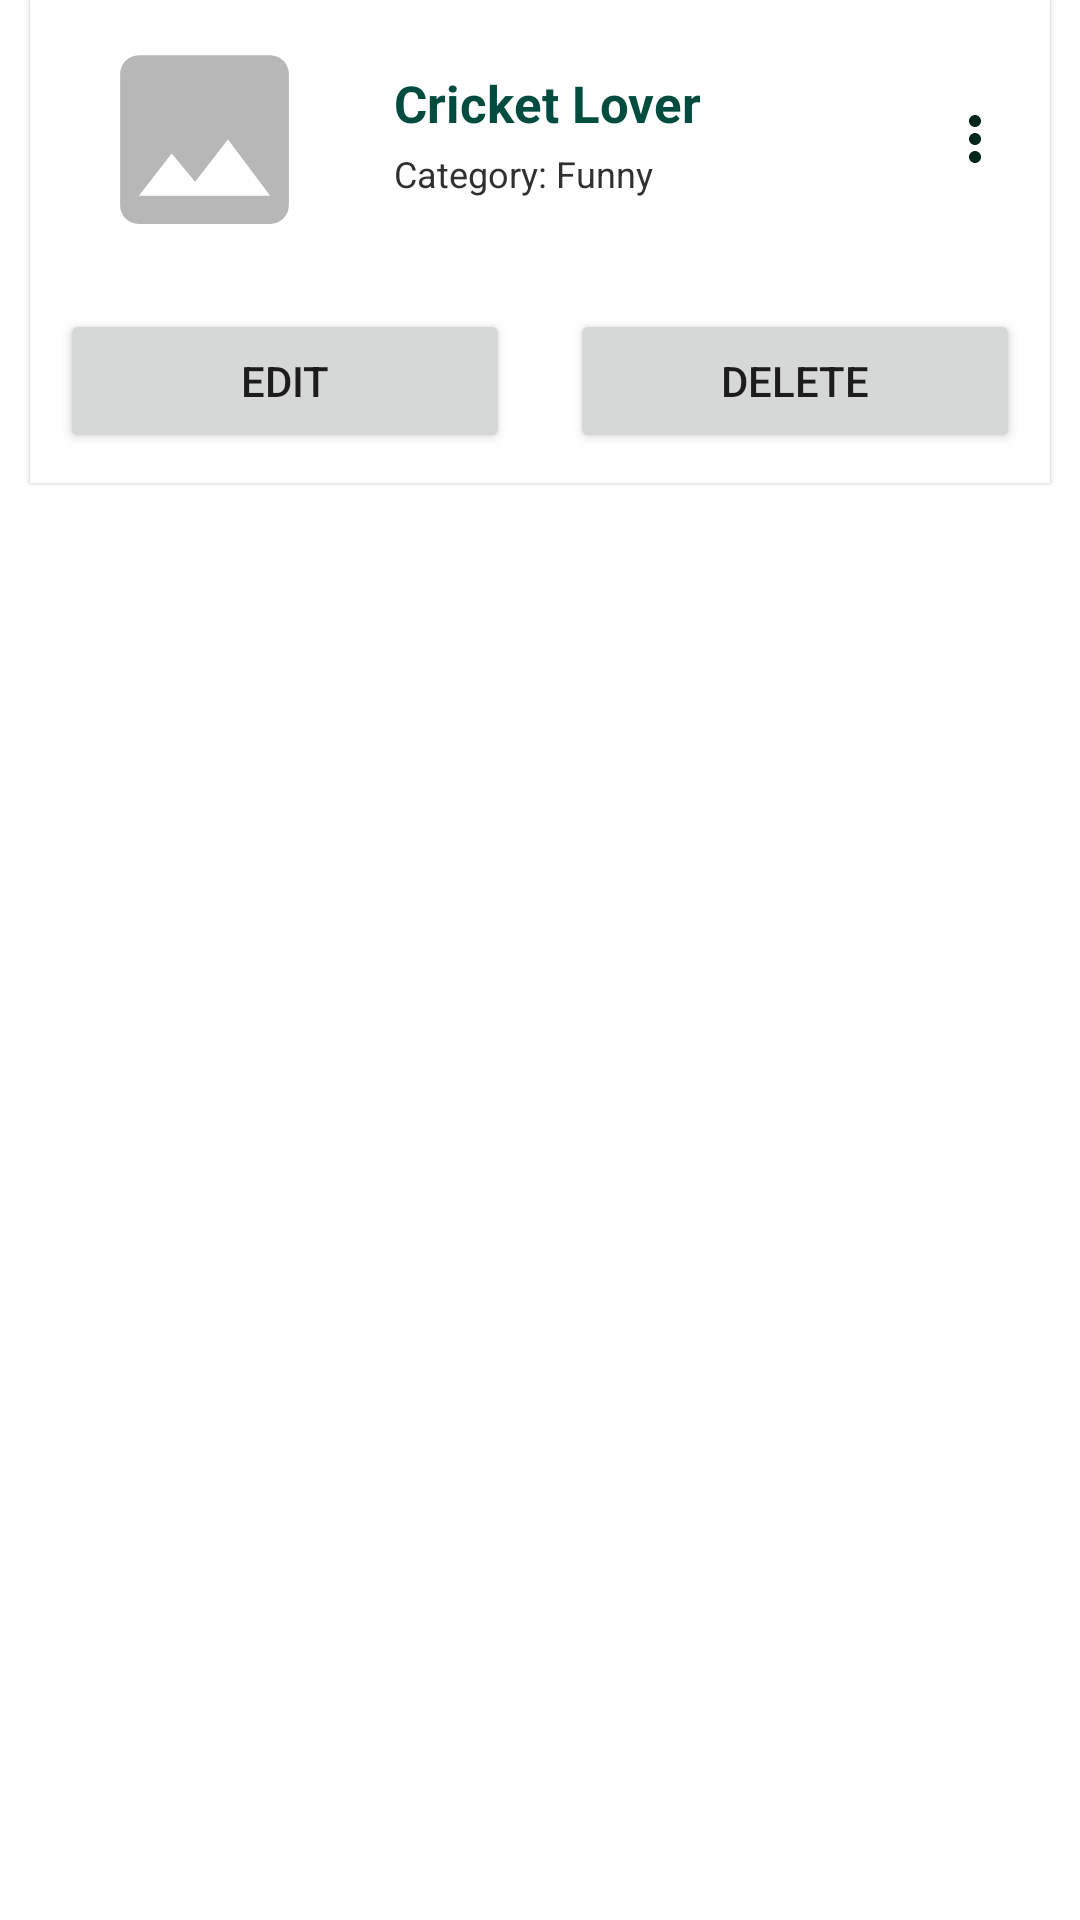

Screen size 1080×1920. Icon name, then its box in pixels as (x1, y1, x2, y2):
more vert: (969, 115, 981, 163)
